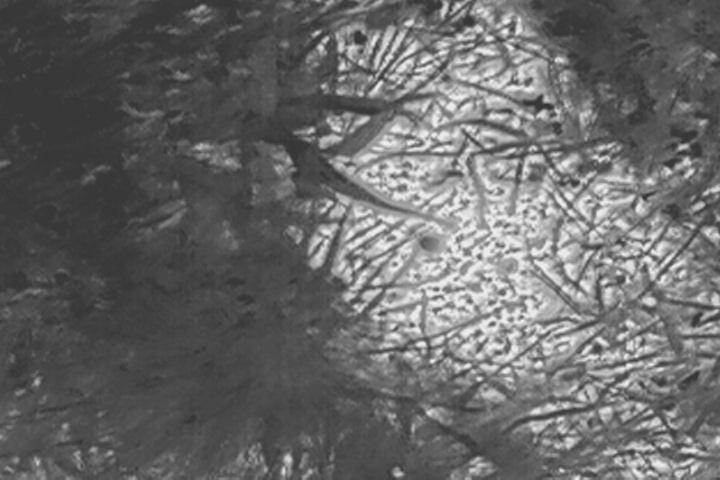landmine: (291, 95, 571, 384)
